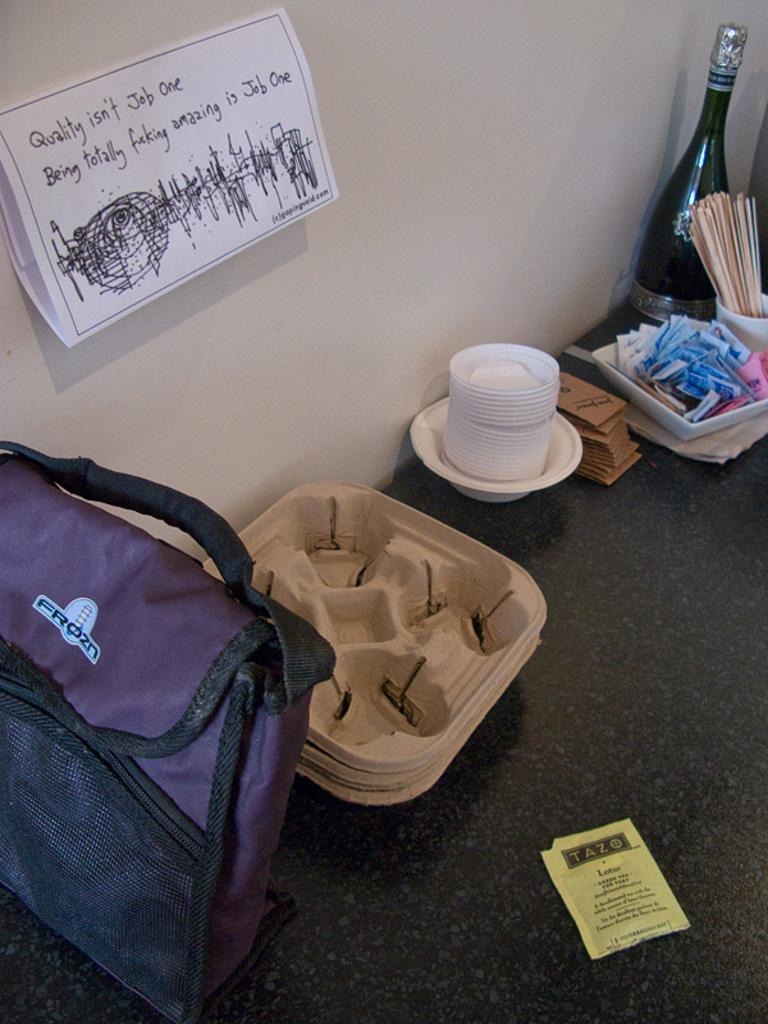Luggage-and-bags: (1, 422, 332, 1009)
